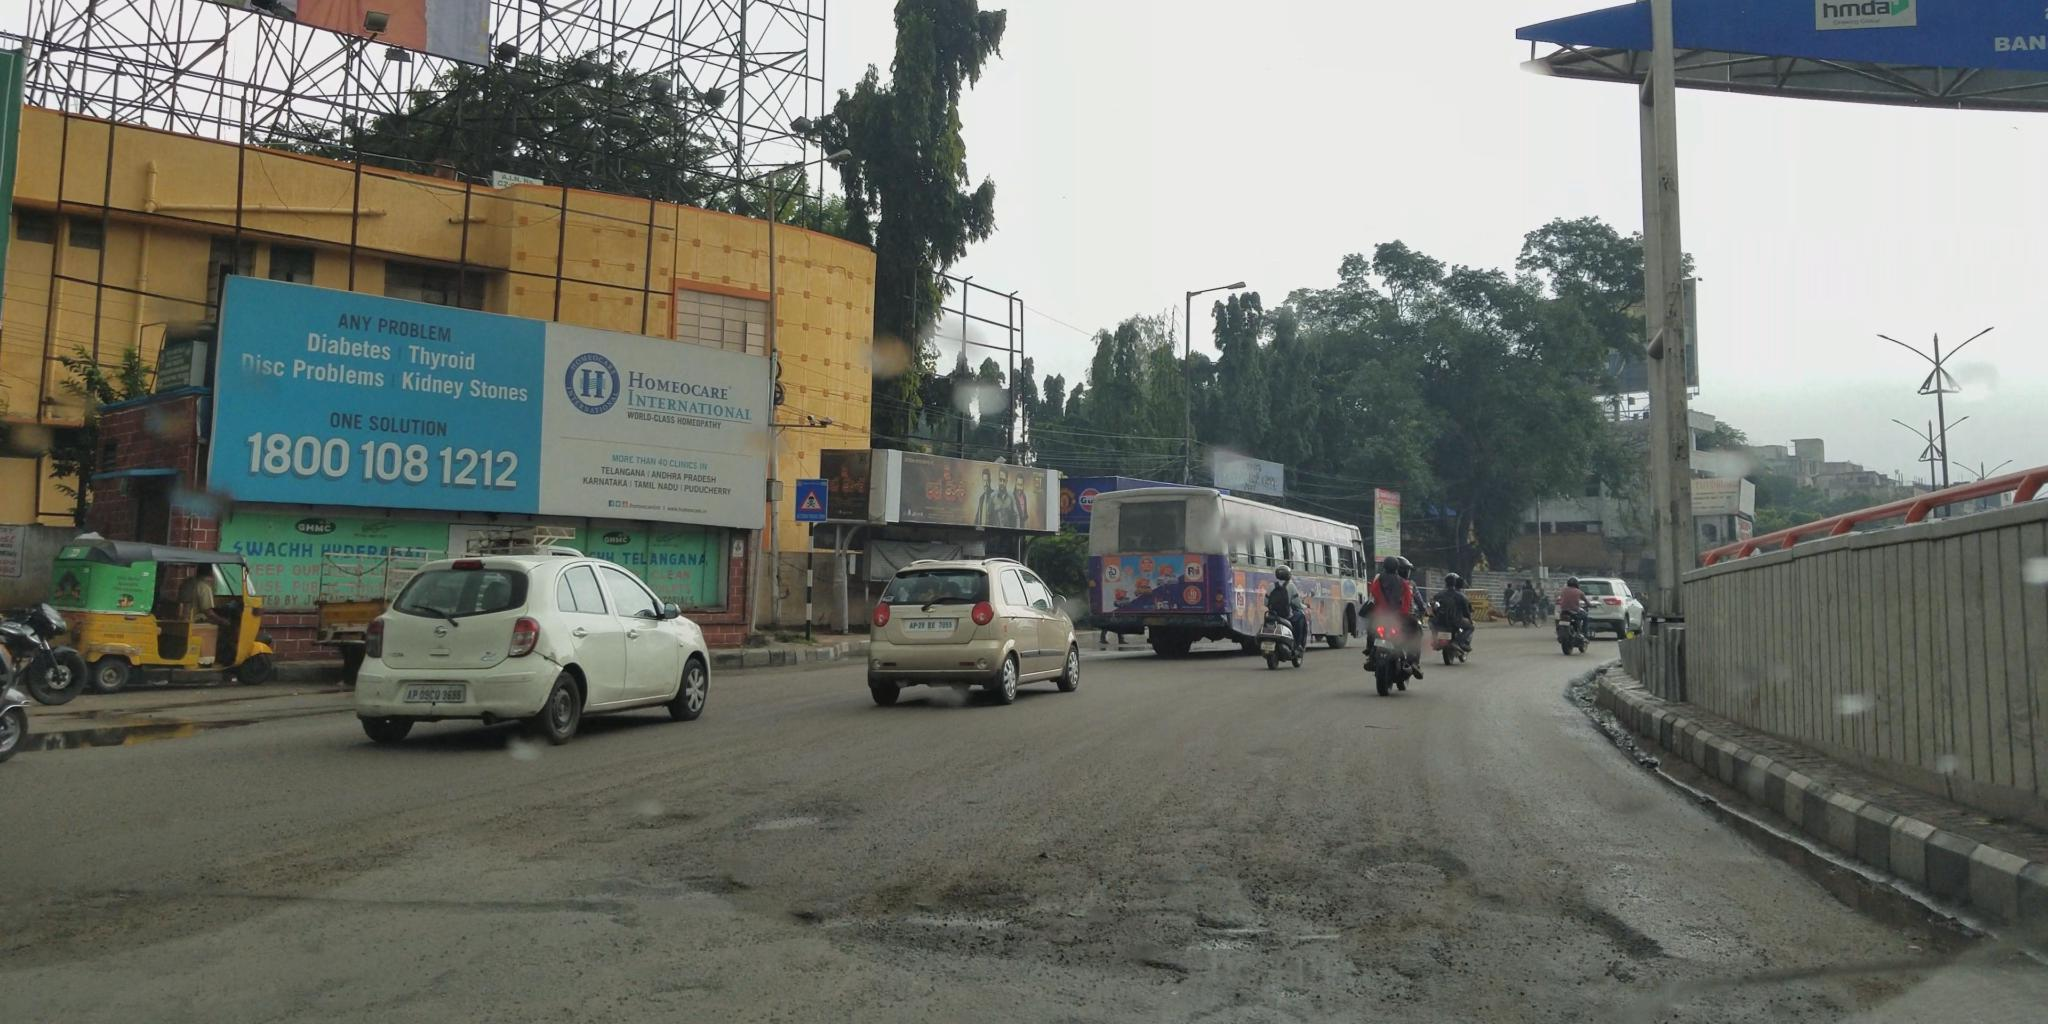off: (20, 31, 2048, 1024)
